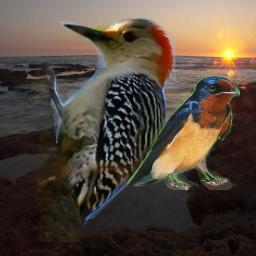Swallow: (125, 75, 240, 190)
Woodpecker: (31, 6, 204, 242)
